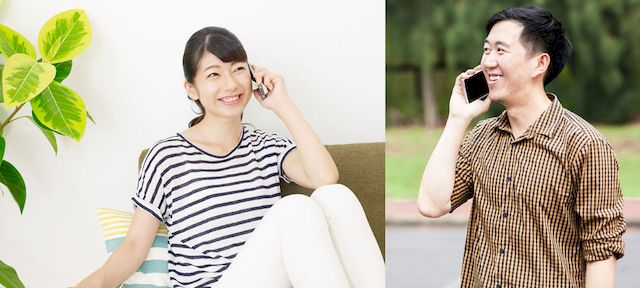phone: (239, 61, 277, 103), (458, 76, 490, 102)
talk: (194, 53, 289, 118), (448, 37, 523, 118)
